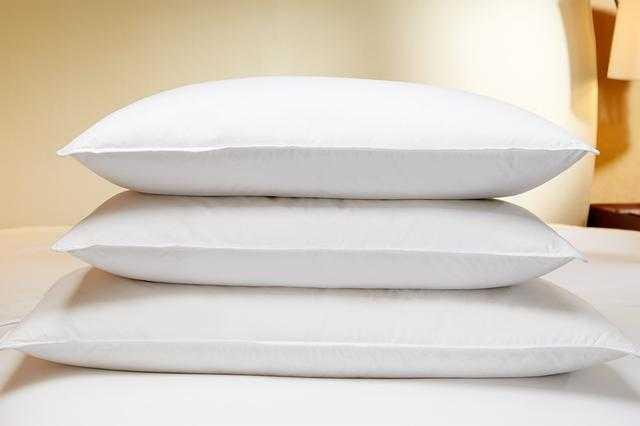pillow: (1, 264, 638, 380), (55, 72, 600, 200), (51, 190, 590, 290)
